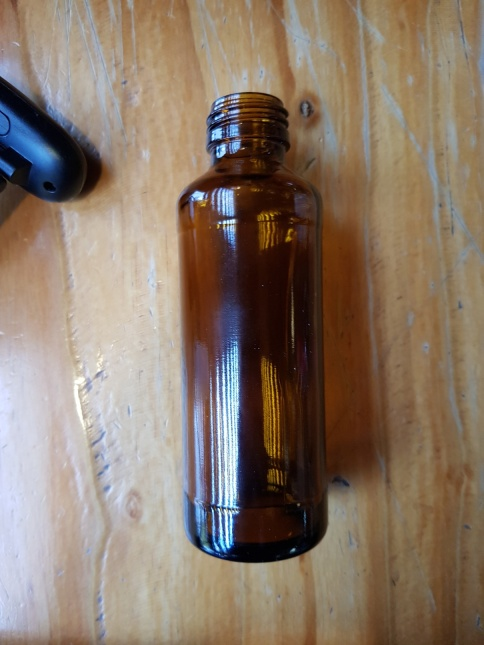Glass: (170, 84, 335, 564)
